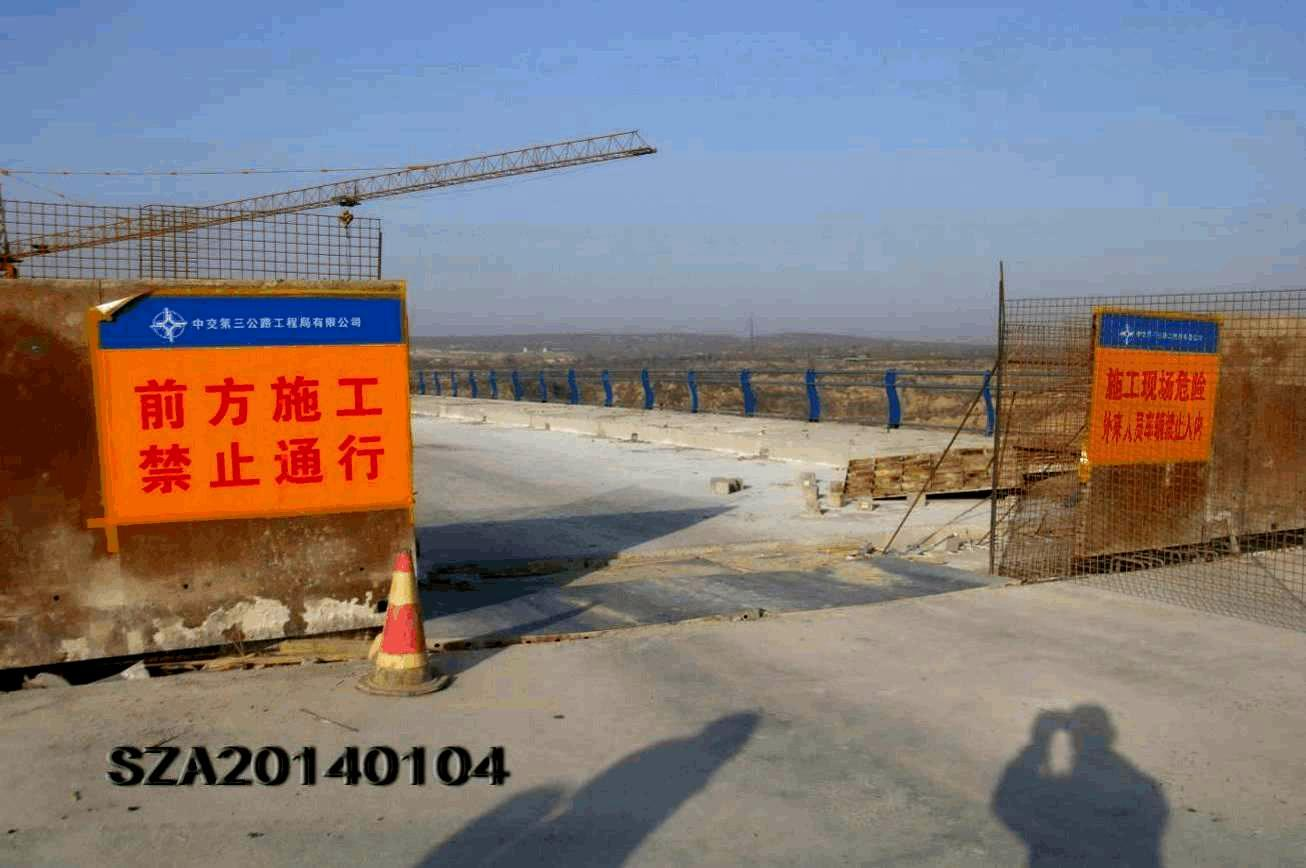sign: (85, 290, 421, 528), (1088, 308, 1219, 470)
